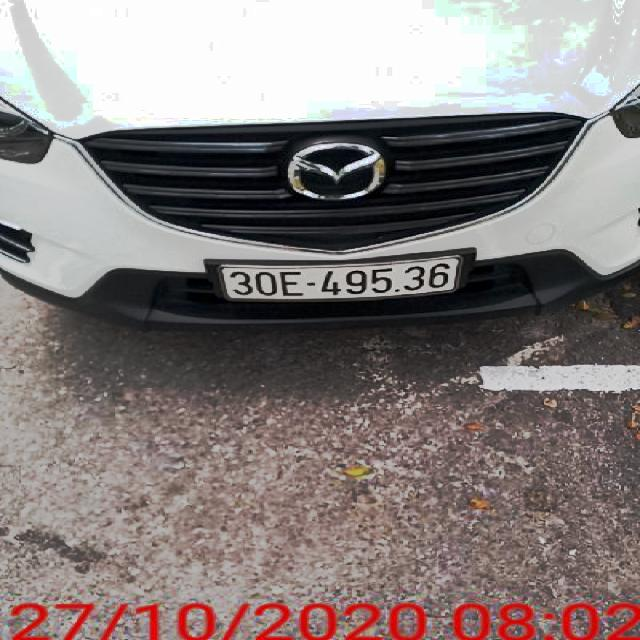license_plate: (223, 255, 463, 302)
